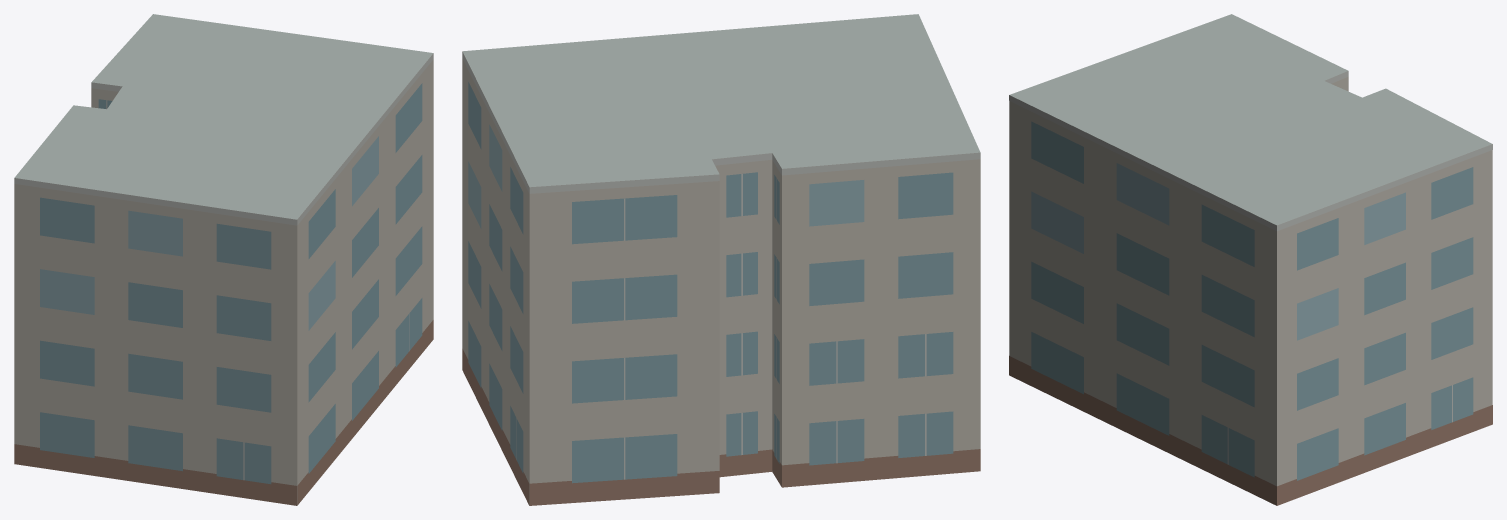
Rendered from survey-upis-32739208.glb.
3 views of the same model, side by side, from view 1: azimuth 30°, elevation 25°; view 2: azimuth 150°, elevation 25°; view 3: azimuth 270°, elevation 25° (orthographic). The views are drawn at different scales.
Parts seen in each view (by area): view 1: survey-upis-32739208.tmp; view 2: survey-upis-32739208.tmp; view 3: survey-upis-32739208.tmp.
Boxes of the visible parts, x1,y1,x2,y2 form: survey-upis-32739208.tmp: (14, 14, 433, 505); survey-upis-32739208.tmp: (462, 14, 980, 505); survey-upis-32739208.tmp: (1009, 14, 1492, 505).
Size of the model in its own units: 18.94 by 11.7 by 18.3.
